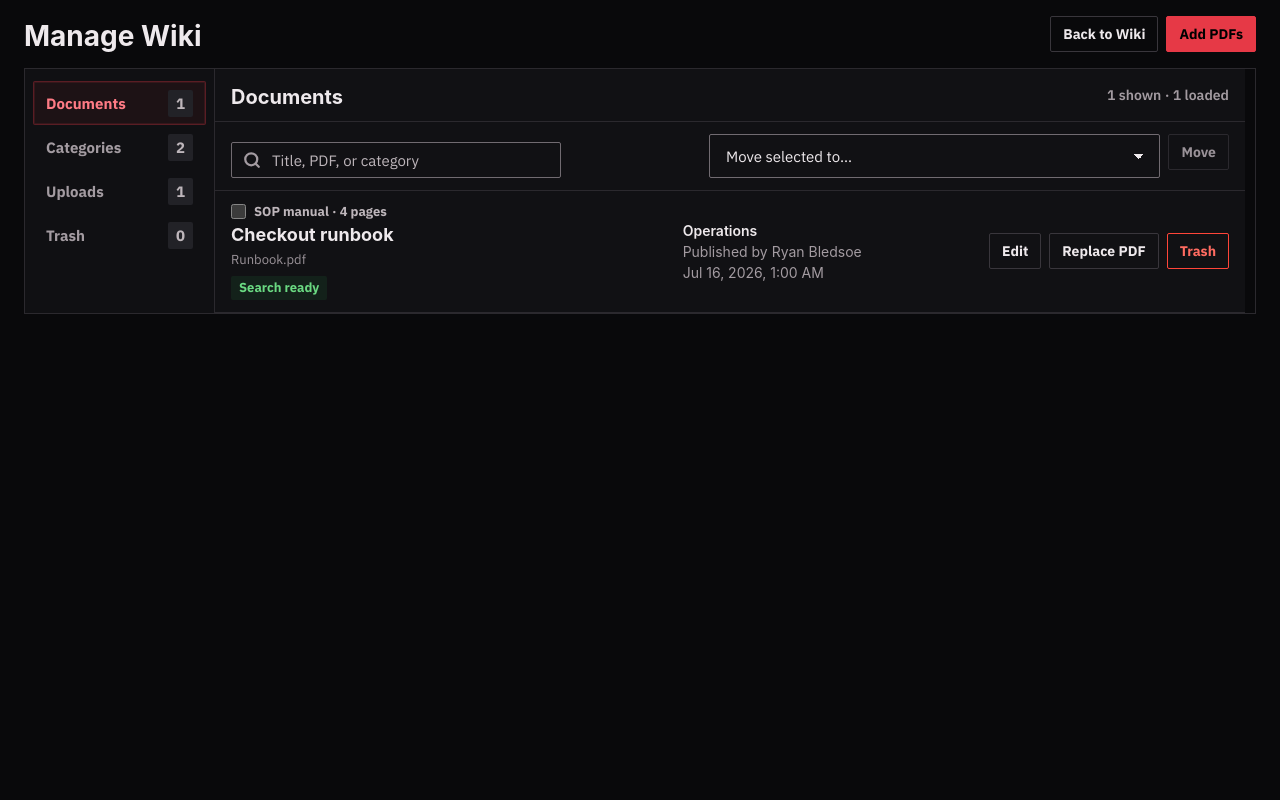
KnowledgeManagementWorkspace › keeps an explicit local pause ahead of stale uploading server state
Click the button "Uploads 1" at point(120, 191), box [33,169,206,213]
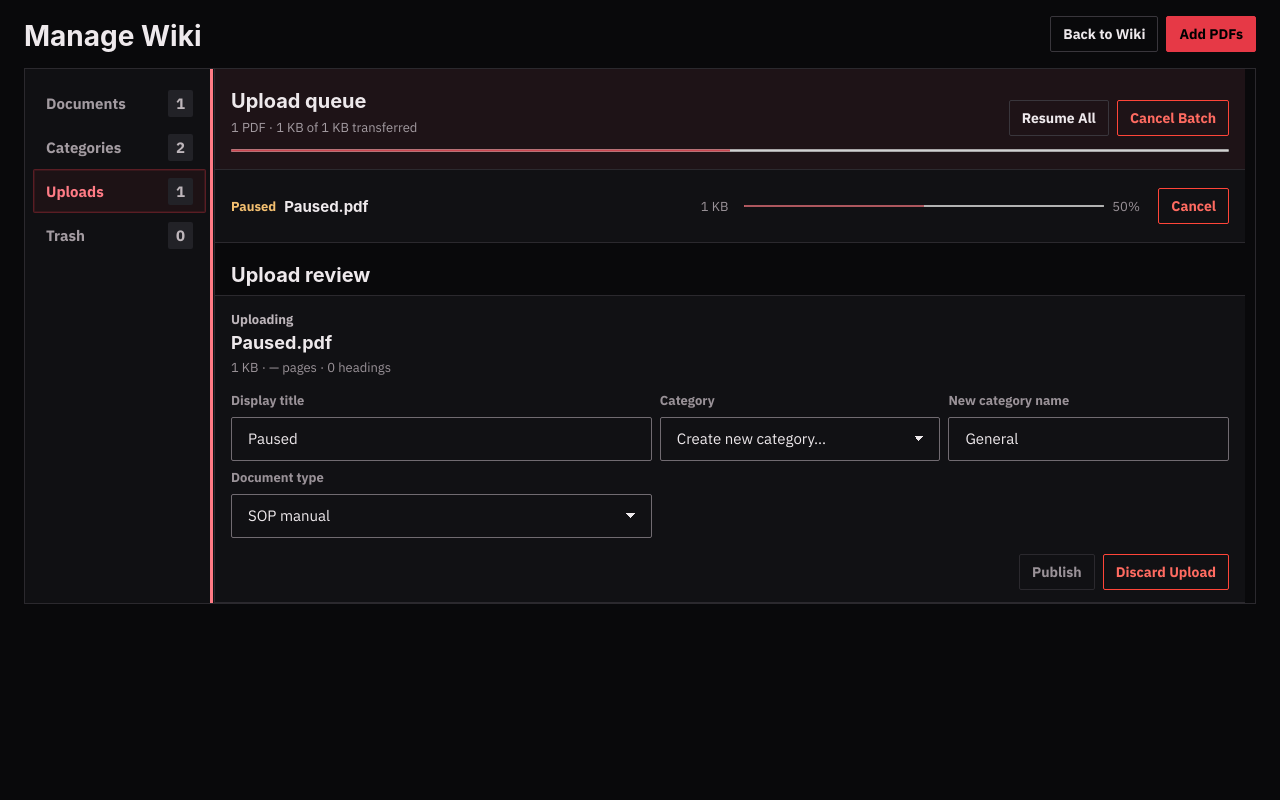
Check: the text "Paused.pdf" is shown, box [284,197,369,216]
Check: the text "Paused" is shown, box [231,198,276,215]
Check: the button "Resume All" is shown, box [1009,100,1109,136]
